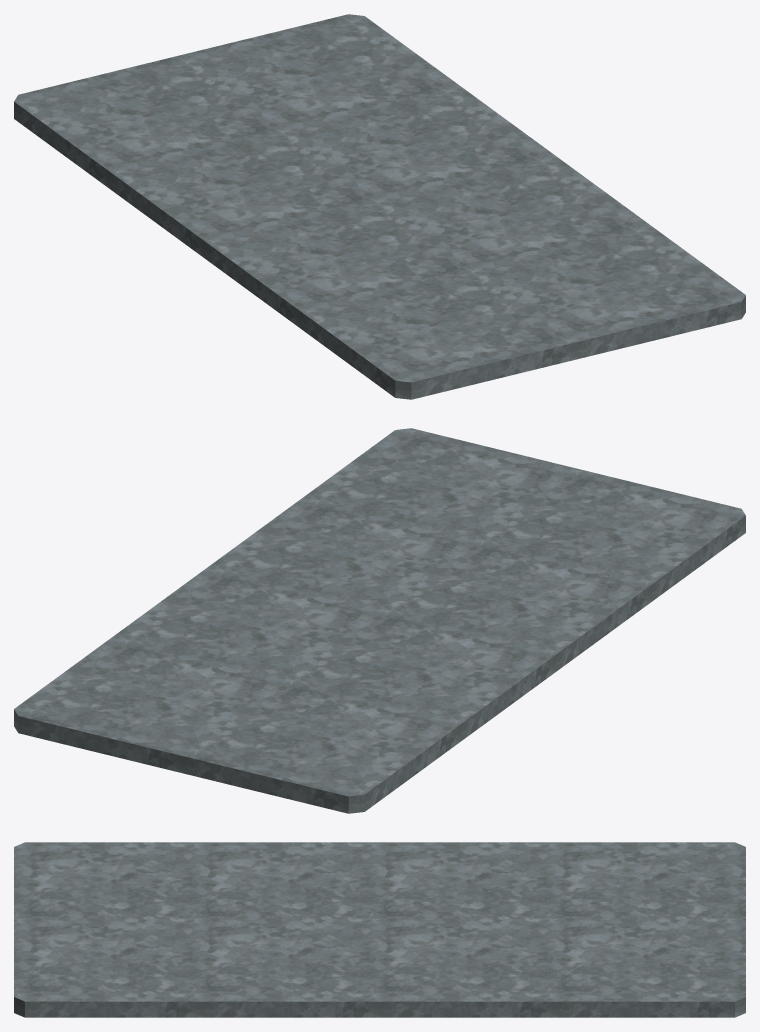
Rendered from Roads.obj.
The picture shows the model from 3 angles, top to bottom: view 1: azimuth 30°, elevation 25°; view 2: azimuth 150°, elevation 25°; view 3: azimuth 270°, elevation 25°; orthographic projection. The views are drawn at different scales.
Visible parts, largest first — view 1: mergedBlocks; view 2: mergedBlocks; view 3: mergedBlocks.
Boxes of the visible parts, x1,y1,x2,y2 form: mergedBlocks: (14,14,745,399); mergedBlocks: (14,428,745,813); mergedBlocks: (14,842,745,1017).
Bounding box in the file's own units: 2.12 × 0.1 × 4.12.
Materials: 1 (1 with a texture image).
